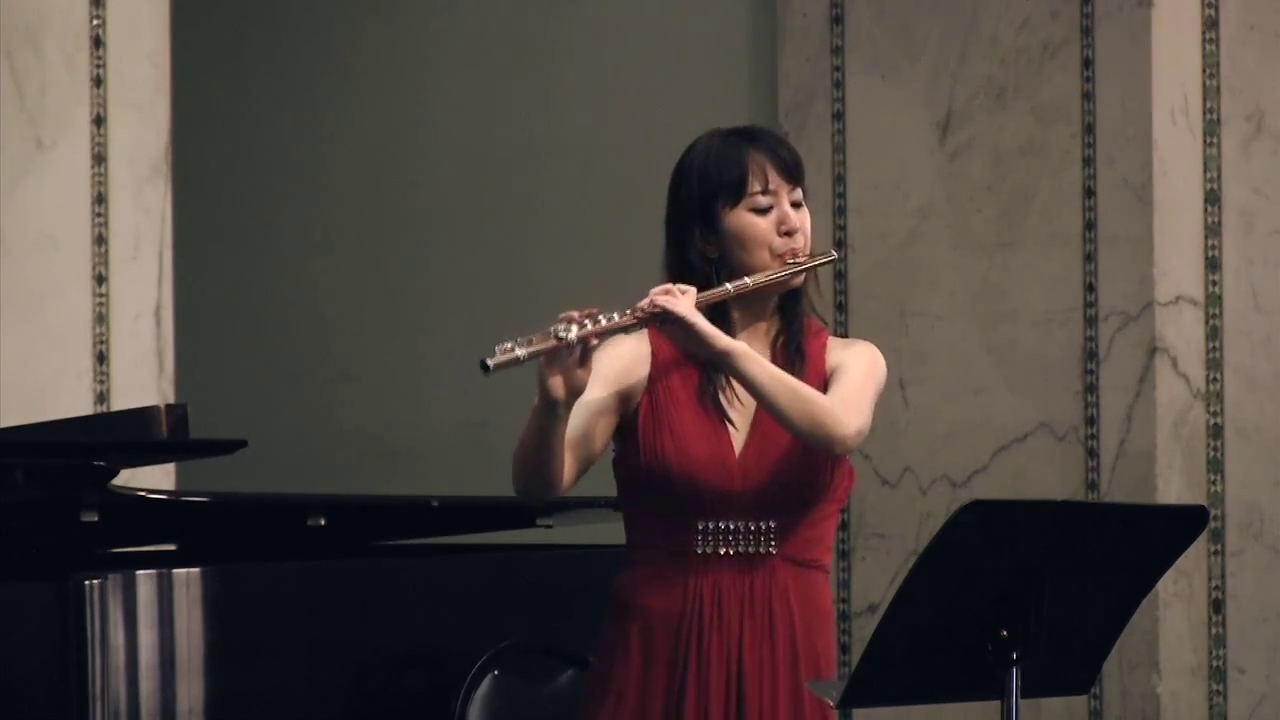person: (510, 125, 888, 720)
